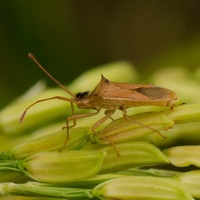insect: (20, 53, 177, 151)
